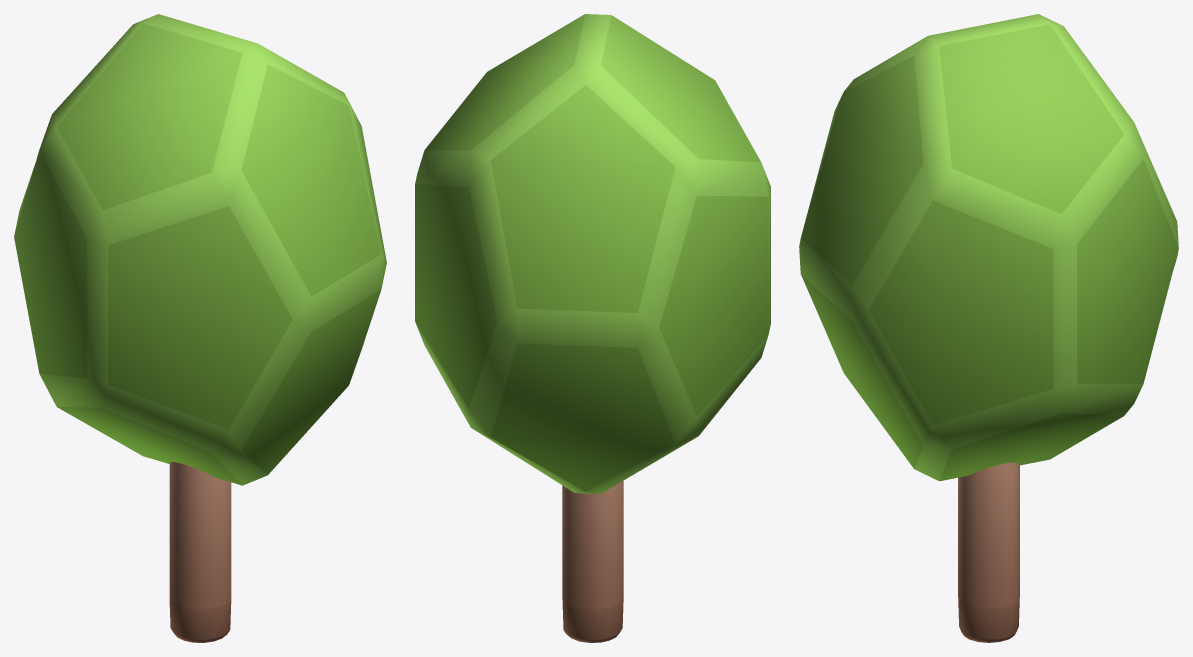
Rendered from tree_6.fbx.
3 views of the same model, side by side, from view 1: azimuth 30°, elevation 25°; view 2: azimuth 150°, elevation 25°; view 3: azimuth 270°, elevation 25° (orthographic).
Visible parts, largest first — view 1: tree_6; view 2: tree_6; view 3: tree_6.
Part boxes in pixels (x1,y1,x2,y2): tree_6: (14,14,386,642); tree_6: (415,14,770,642); tree_6: (799,14,1178,642).
Bounding box in the file's own units: 135 × 268 × 152.
